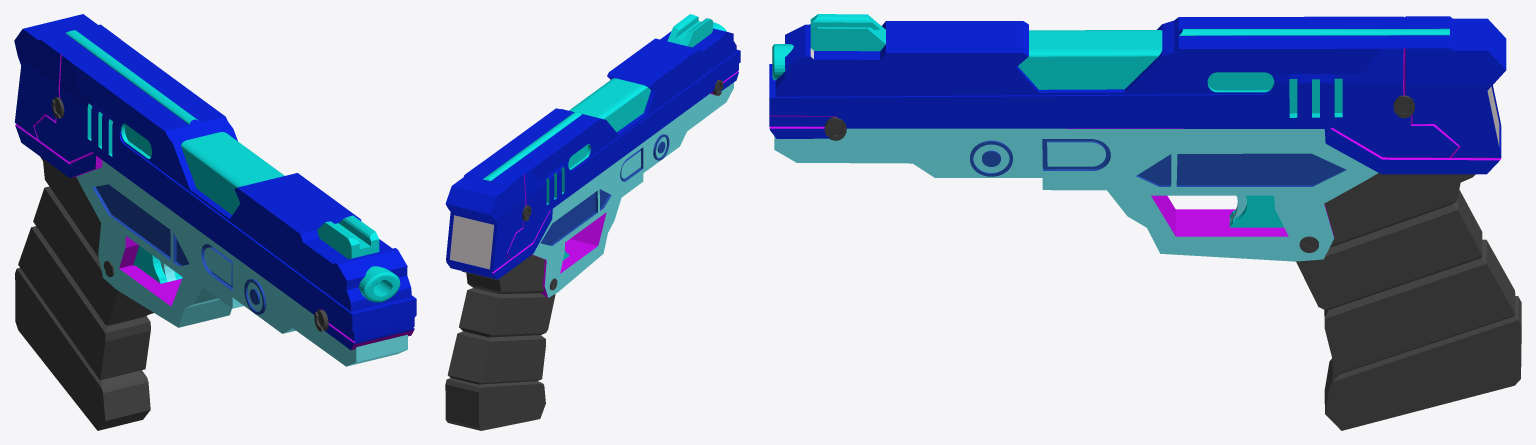
File: gun.fbx
3 views of the same model, side by side, from view 1: azimuth 30°, elevation 25°; view 2: azimuth 150°, elevation 25°; view 3: azimuth 270°, elevation 25° (orthographic). The views are drawn at different scales.
Visible parts, largest first — view 1: Cylinder.001; view 2: Cylinder.001; view 3: Cylinder.001.
Boxes of the visible parts, x1,y1,x2,y2 form: Cylinder.001: (14,14,416,430); Cylinder.001: (445,14,740,430); Cylinder.001: (769,14,1521,430).
Bounding box in the file's own units: 369 × 1849 × 3170.
